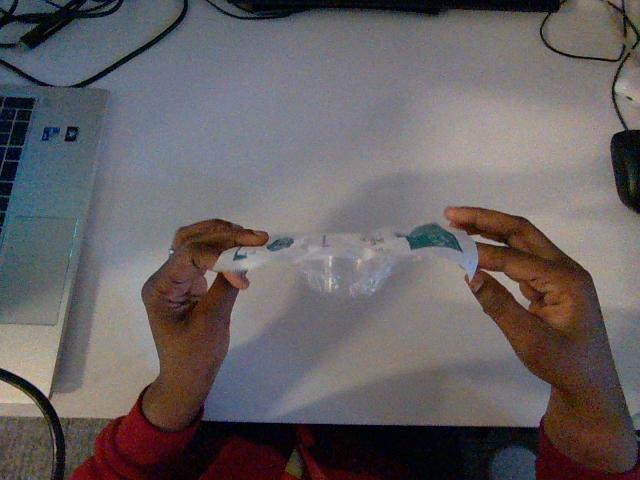gallipot: (214, 223, 477, 296)
